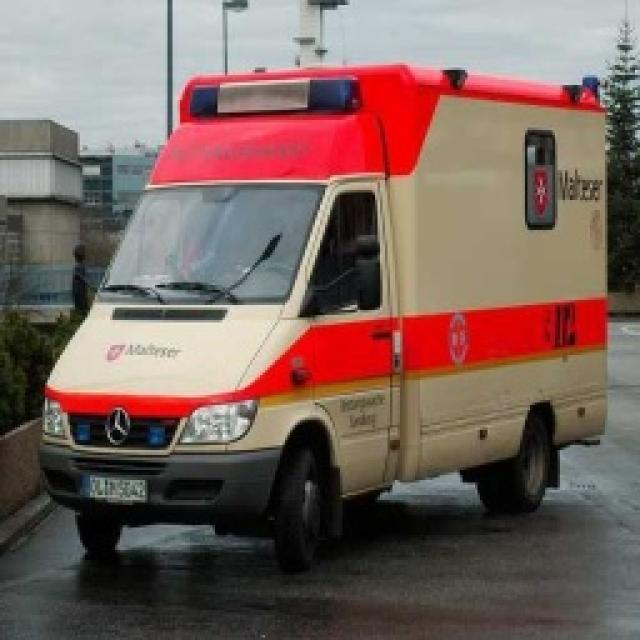emergency-vehicle: (42, 71, 614, 570)
